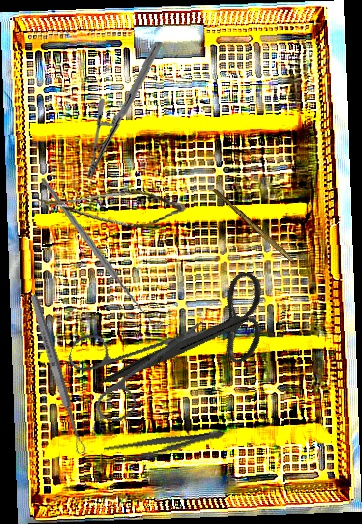Dressing Forceps: (92, 421, 227, 471)
Hook Surgical: (40, 165, 164, 338)
Iris Scissors: (102, 236, 288, 441), (54, 286, 208, 440)
Micro Scissor: (33, 175, 188, 244)
Needle Holder: (80, 41, 168, 179)
Scalpel Handle: (210, 187, 298, 264)
Surgical Spoon: (27, 293, 88, 455)
